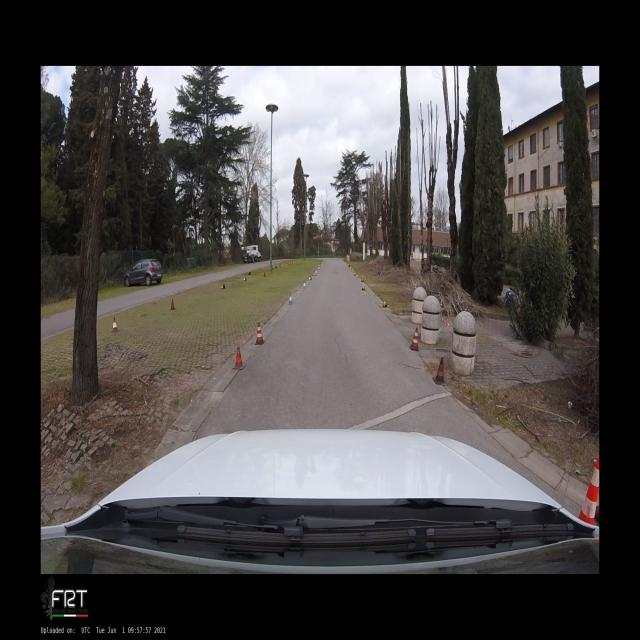blue_cone: (288, 294, 294, 305), (308, 276, 312, 280), (304, 281, 306, 288), (315, 270, 317, 274)
large_orange_cone: (578, 457, 599, 525), (432, 357, 447, 385), (232, 345, 246, 369), (255, 322, 265, 344), (410, 328, 419, 351)
orange_cone: (111, 318, 119, 332)
unknown_cone: (170, 298, 176, 310), (220, 284, 225, 289), (242, 277, 246, 281), (248, 272, 251, 275), (264, 272, 265, 277)
yellow_cone: (382, 300, 389, 307), (361, 286, 365, 290), (360, 278, 364, 282), (354, 272, 356, 276)
